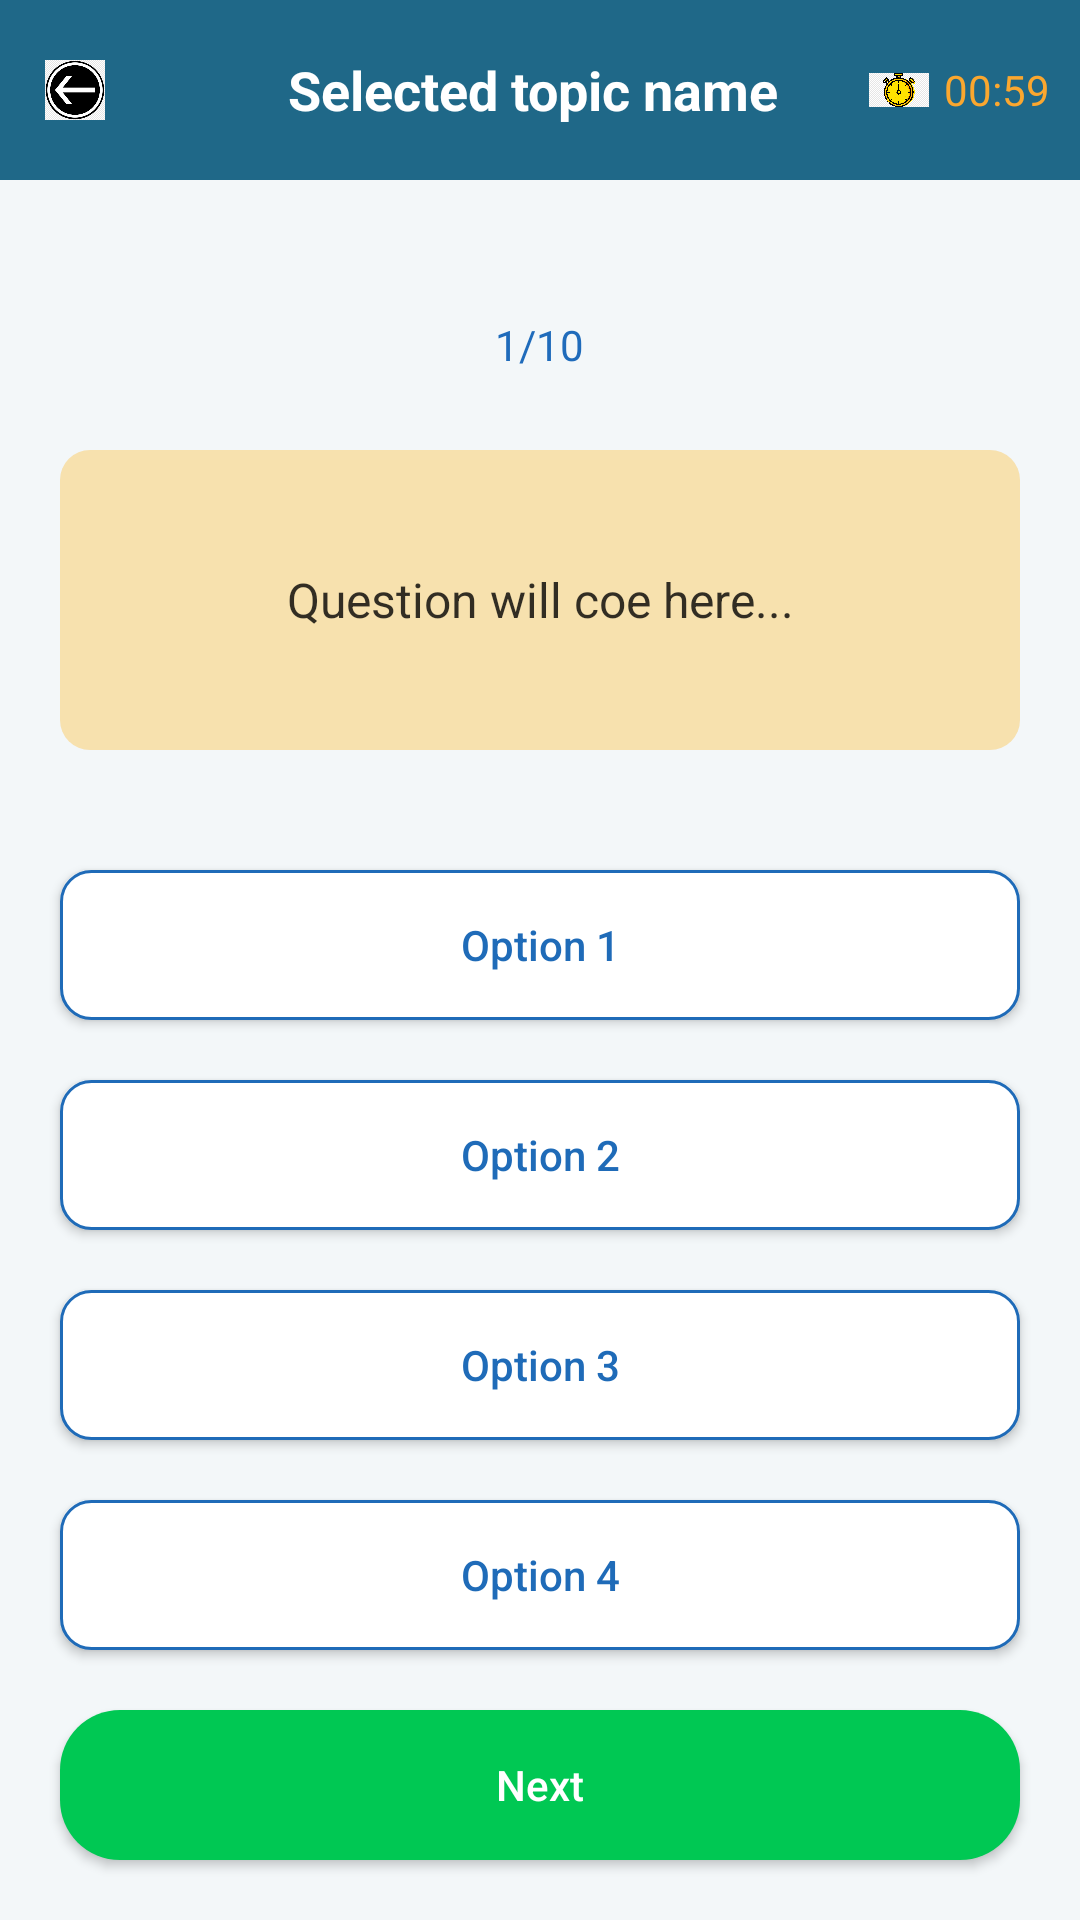

Where to tap for icons on this 1080 x 1920 app screen, as (x=x, y=y):
back: (x=75, y=90)
timer: (x=899, y=90)
